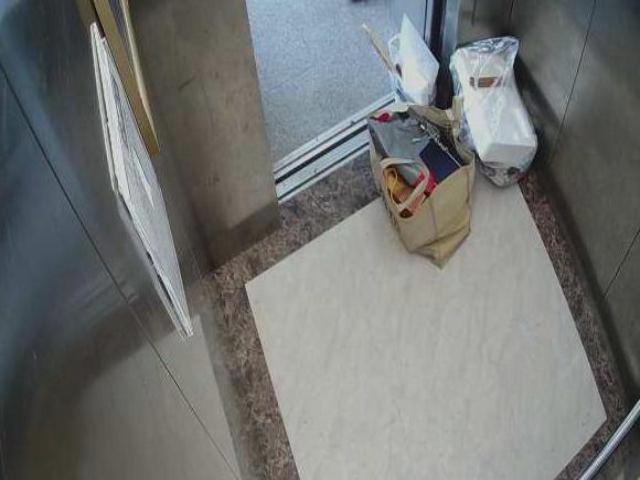bag: (374, 105, 477, 255), (457, 47, 548, 191), (375, 25, 432, 111)
